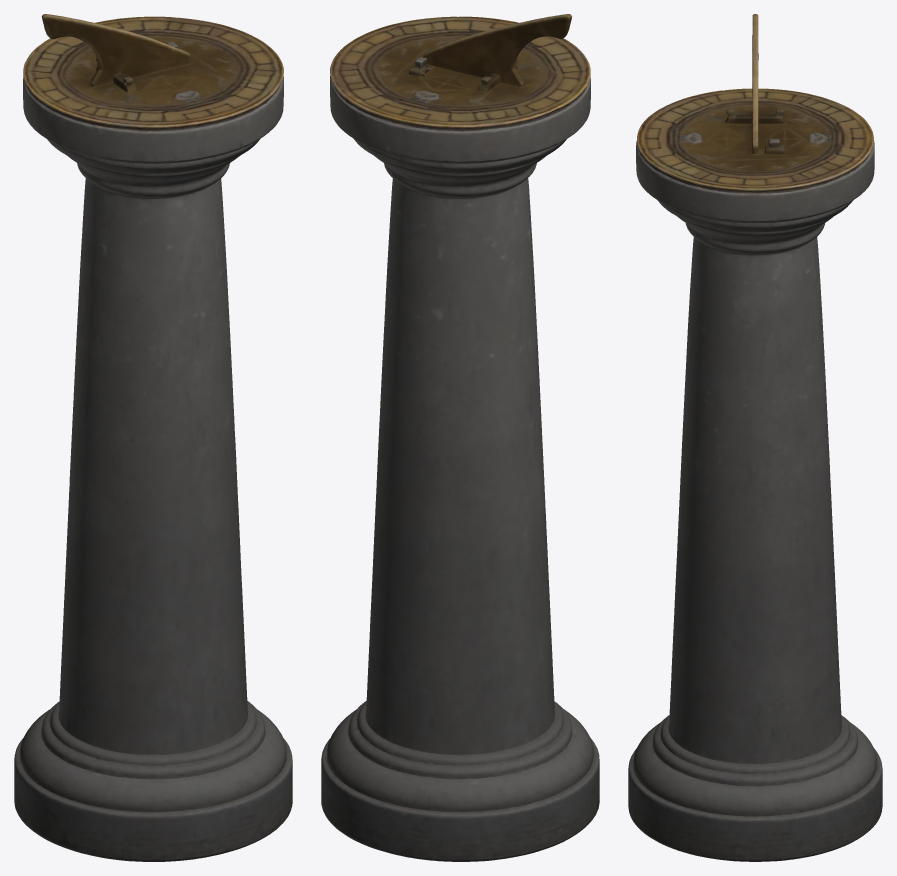
File: original.glb
The picture shows the model from 3 angles, left to right: view 1: azimuth 30°, elevation 25°; view 2: azimuth 150°, elevation 25°; view 3: azimuth 270°, elevation 25°; orthographic projection. The views are drawn at different scales.
Visible parts, largest first — view 1: world; view 2: world; view 3: world.
Part boxes in pixels (left/top/right/bottom): world: left=14, top=14, right=292, bottom=861; world: left=321, top=14, right=599, bottom=861; world: left=628, top=14, right=882, bottom=861.
Bounding box in the file's own units: 0.3091 × 1 × 0.3088.
Materials: 1 (1 with a texture image).
